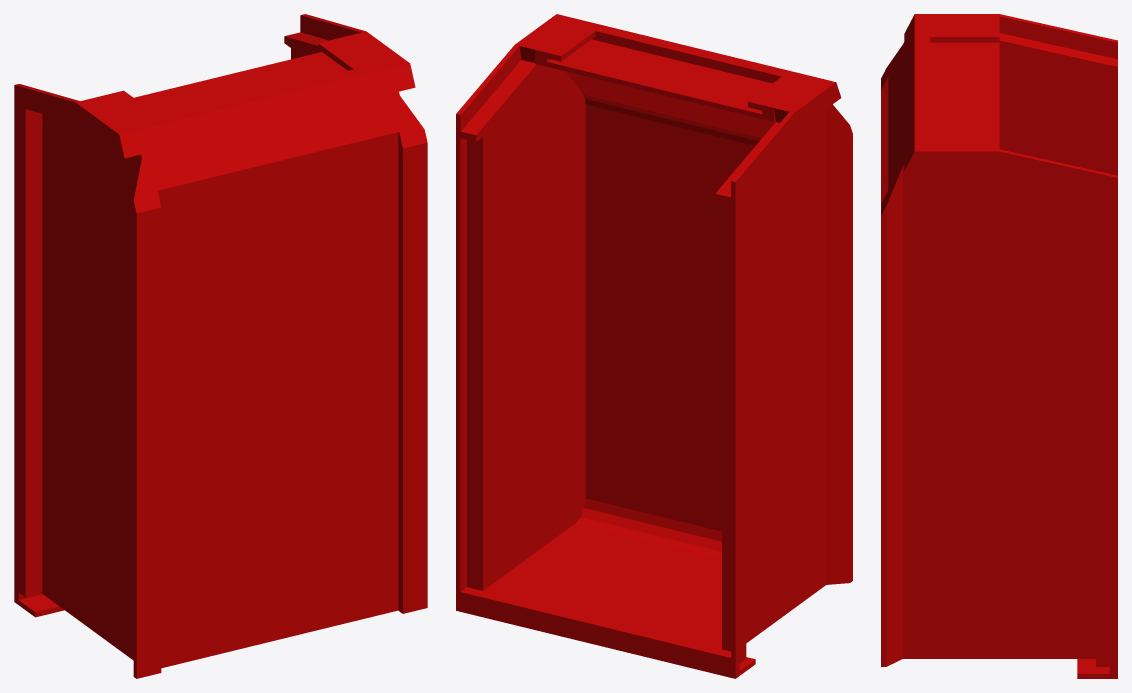
Rendered from red_bin.dae.
The picture shows the model from 3 angles, left to right: view 1: azimuth 30°, elevation 25°; view 2: azimuth 150°, elevation 25°; view 3: azimuth 270°, elevation 25°; orthographic projection. The views are drawn at different scales.
Visible parts, largest first — view 1: Rack_Bin_SLDPRT; view 2: Rack_Bin_SLDPRT; view 3: Rack_Bin_SLDPRT.
Boxes of the visible parts, x1=… form: Rack_Bin_SLDPRT: x1=14, y1=14, x2=427, y2=678; Rack_Bin_SLDPRT: x1=456, y1=14, x2=852, y2=678; Rack_Bin_SLDPRT: x1=881, y1=14, x2=1117, y2=678.
Size of the model in its own units: 0.1048 by 0.0762 by 0.1873.
